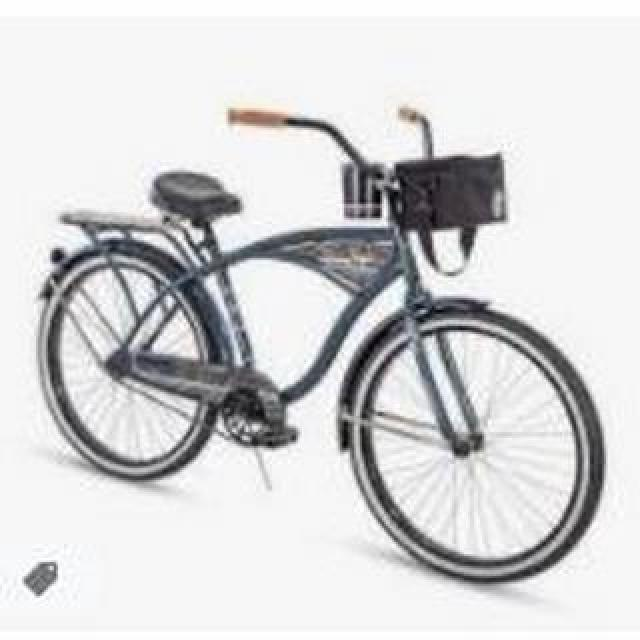Person: (30, 92, 606, 596)
